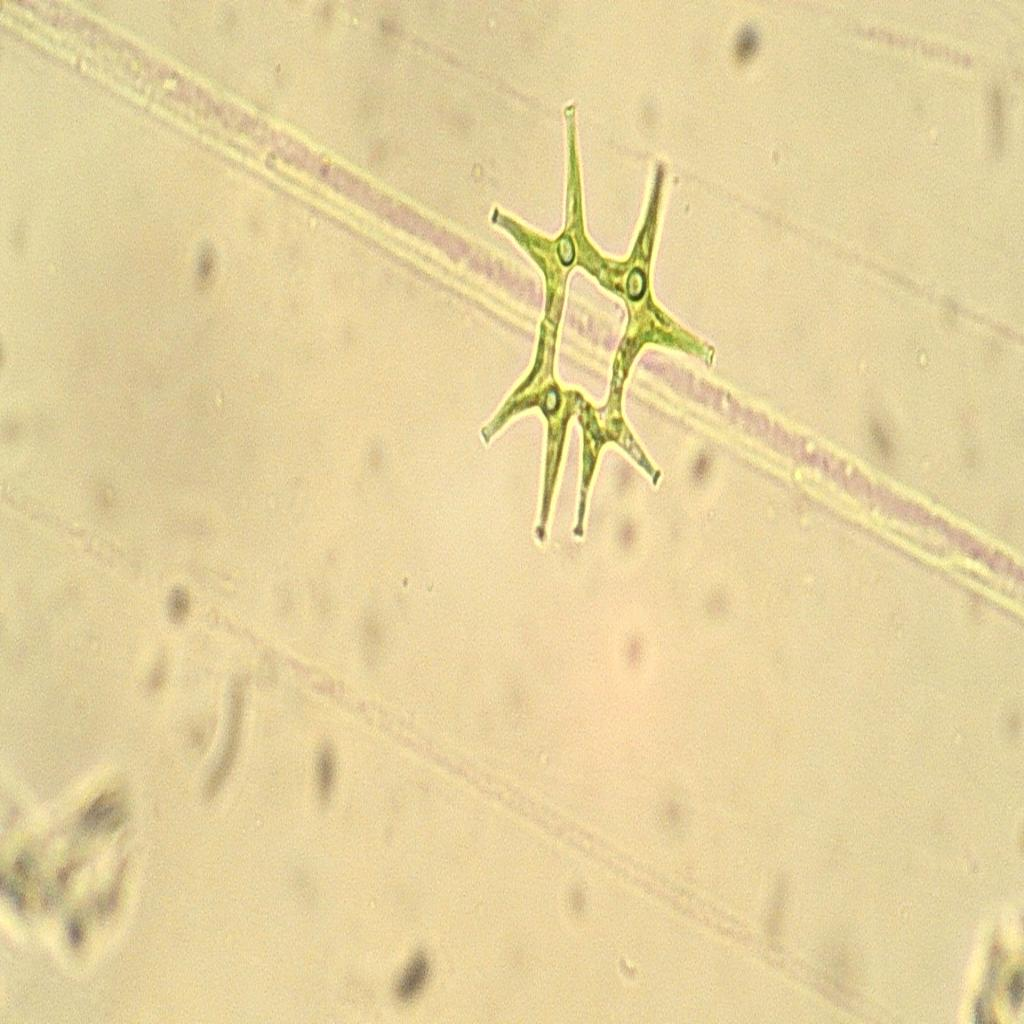Pediastrum_75O: (445, 90, 735, 570)
